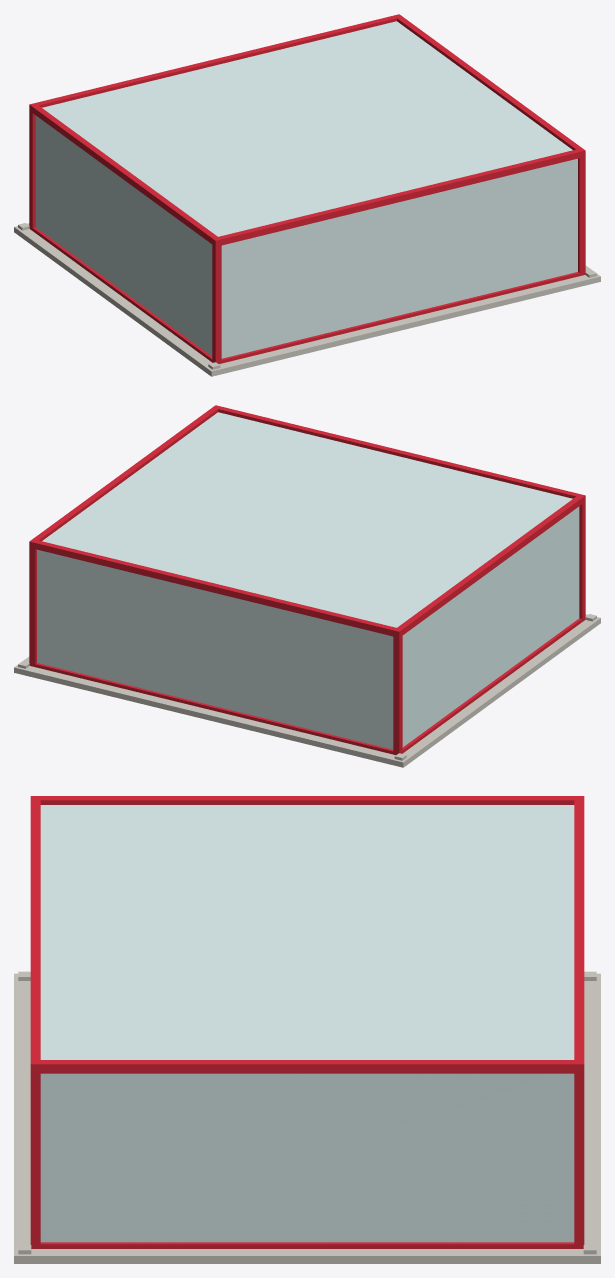
File: mustang-p-51-fighter.glb
3 views of the same model, one above another, from view 1: azimuth 30°, elevation 25°; view 2: azimuth 150°, elevation 25°; view 3: azimuth 270°, elevation 25° (orthographic). The views are drawn at different scales.
Bounding box in the file's own units: 0.461 × 0.1465 × 0.405.
